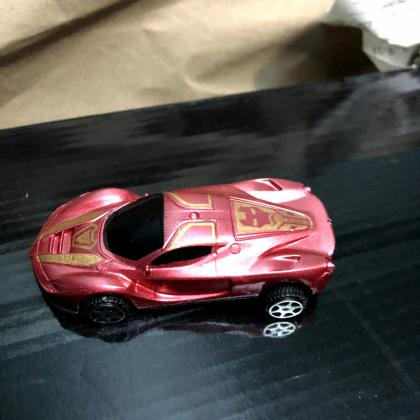Car: (29, 178, 336, 326)
